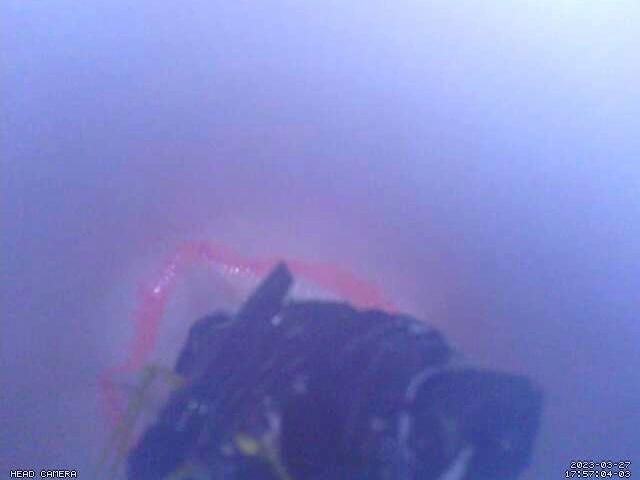head: (97, 239, 395, 454)
